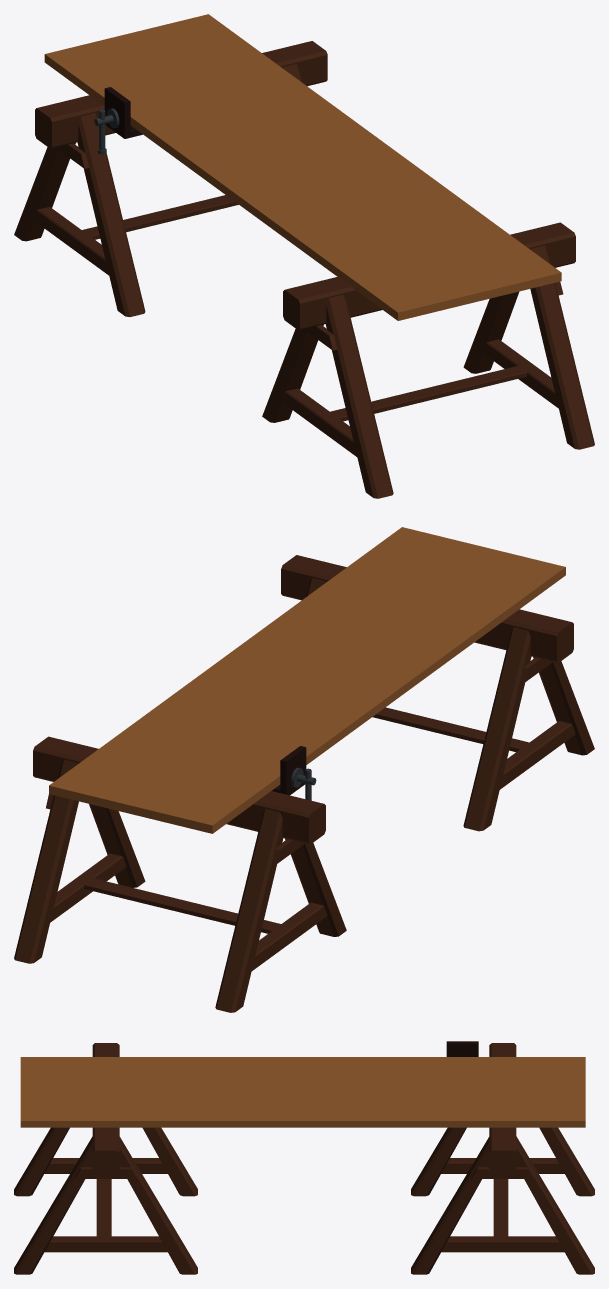
File: WorkBench 1.fbx
3 renders of one model, top to bottom at view 1: azimuth 30°, elevation 25°; view 2: azimuth 150°, elevation 25°; view 3: azimuth 270°, elevation 25°, orthographic. The views are drawn at different scales.
Parts seen in each view (by area): view 1: Cube.001; view 2: Cube.001; view 3: Cube.001.
Boxes of the visible parts, left/top/right/bottom form: Cube.001: left=14, top=14, right=594, bottom=498; Cube.001: left=14, top=527, right=594, bottom=1012; Cube.001: left=14, top=1041, right=594, bottom=1274.
Bounding box in the file's own units: 470 × 315 × 1071.
